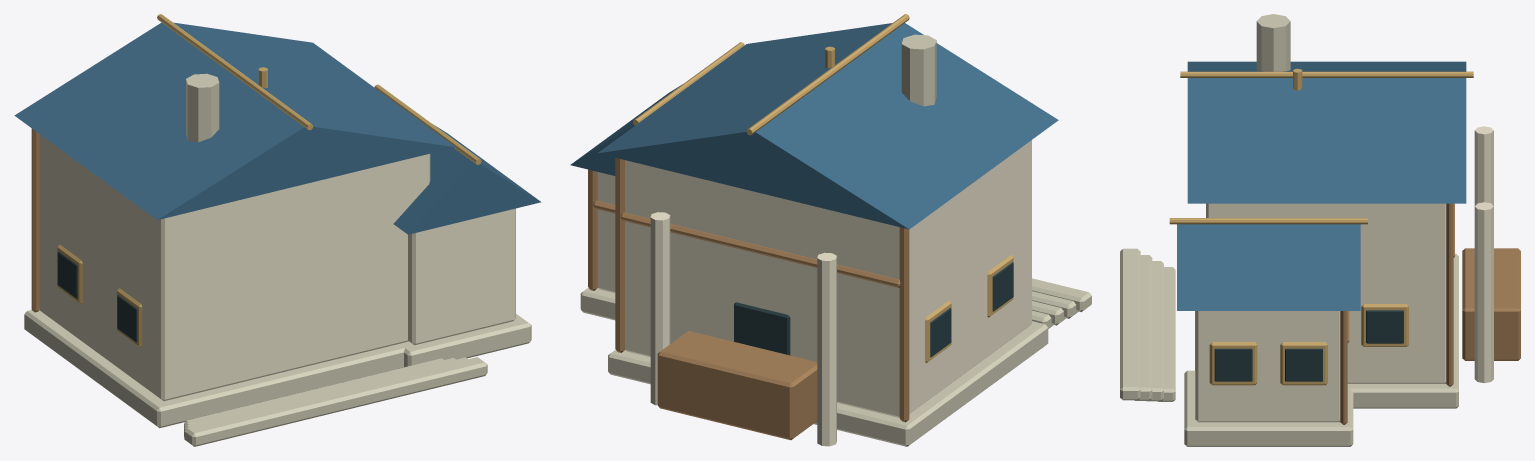
File: level_28.glb
3 views of the same model, side by side, from view 1: azimuth 30°, elevation 25°; view 2: azimuth 150°, elevation 25°; view 3: azimuth 270°, elevation 25° (orthographic). The views are drawn at different scales.
Visible parts, largest first — view 1: workshop — level 28; view 2: workshop — level 28; view 3: workshop — level 28.
Boxes of the visible parts, left/top/right/bottom form: workshop — level 28: left=14, top=14, right=541, bottom=446; workshop — level 28: left=570, top=14, right=1091, bottom=446; workshop — level 28: left=1120, top=14, right=1520, bottom=446.
Bounding box in the file's own units: 5.82 × 4.38 × 5.46.
